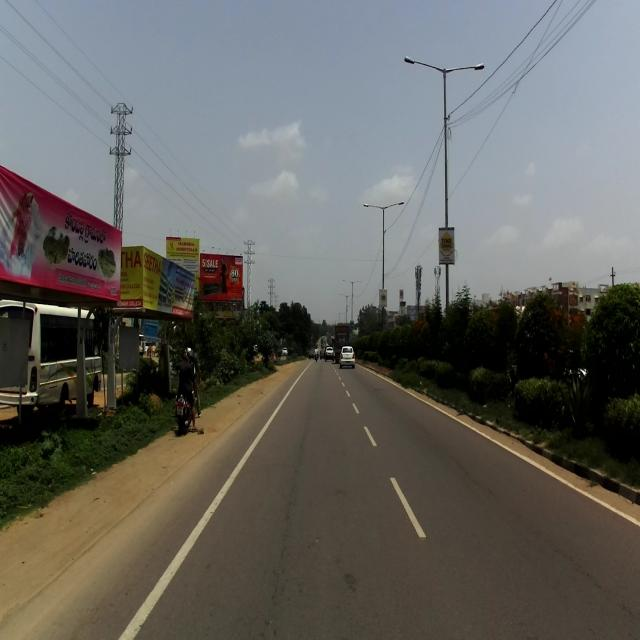motorcycle: (174, 365, 198, 436)
